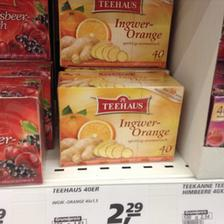Tee: (56, 72, 184, 168), (55, 0, 172, 68)
